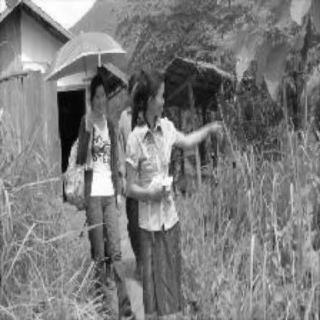other: (122, 197, 190, 311)
